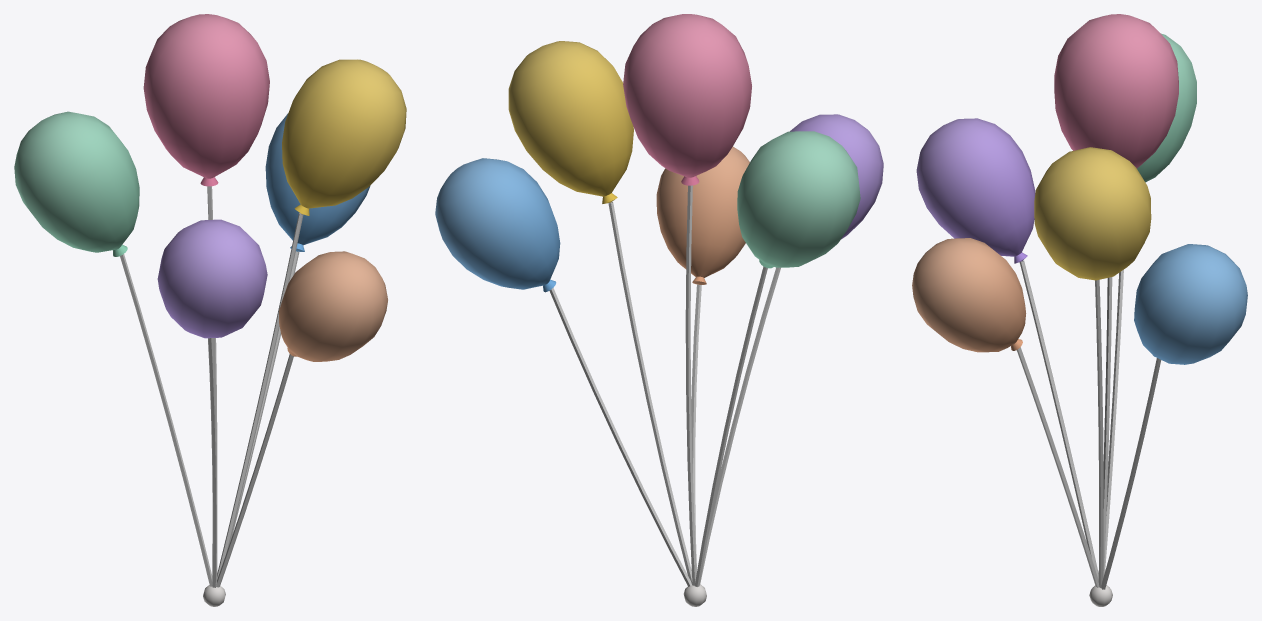
File: balloon_cluster.glb
3 renders of one model, left to right at view 1: azimuth 30°, elevation 25°; view 2: azimuth 150°, elevation 25°; view 3: azimuth 270°, elevation 25°, orthographic. The views are drawn at different scales.
Parts seen in each view (by area): view 1: balloon_cluster; view 2: balloon_cluster; view 3: balloon_cluster.
Boxes of the visible parts, x1,y1,x2,y2 form: balloon_cluster: (14, 14, 406, 606); balloon_cluster: (435, 14, 883, 606); balloon_cluster: (912, 14, 1247, 606).
Size of the model in its own units: 2.21 by 3.27 by 1.7.
